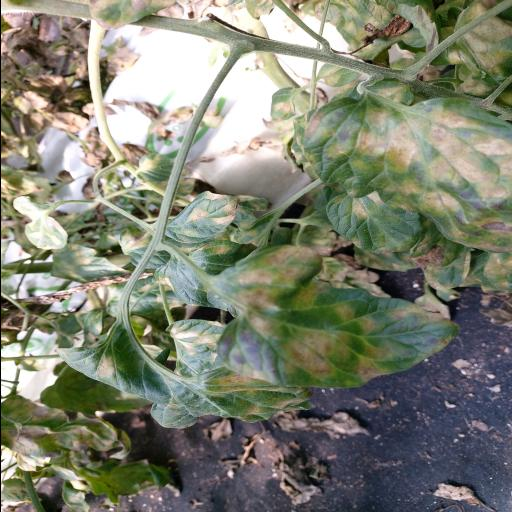Leaf Mold: (216, 245, 460, 389), (294, 96, 512, 254)
